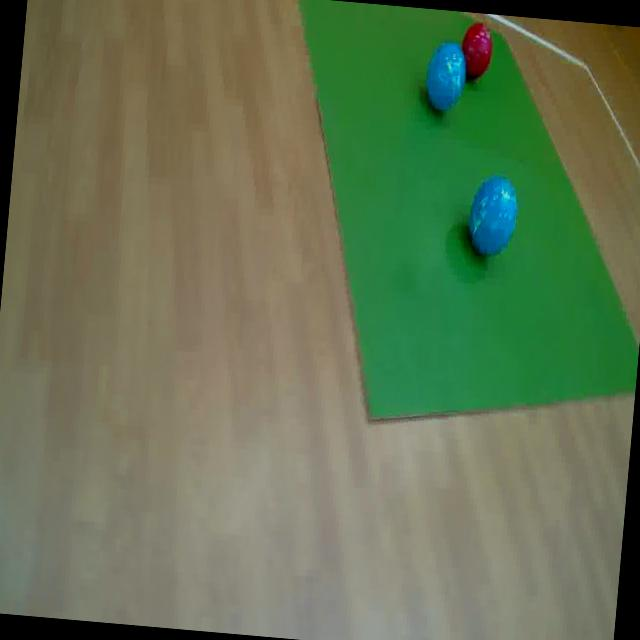blue_ball: (464, 170, 521, 260), (423, 36, 469, 116)
red_ball: (456, 18, 499, 88)
